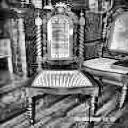chair_success: (10, 0, 108, 127)
